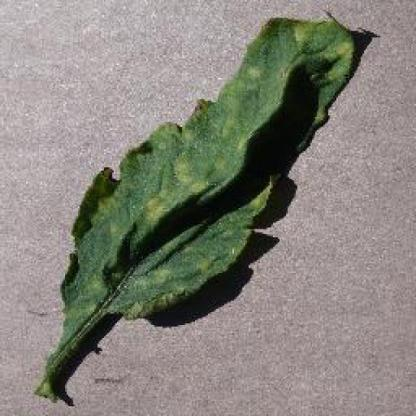Tomato_Leaf_Mold: (62, 14, 359, 324)
